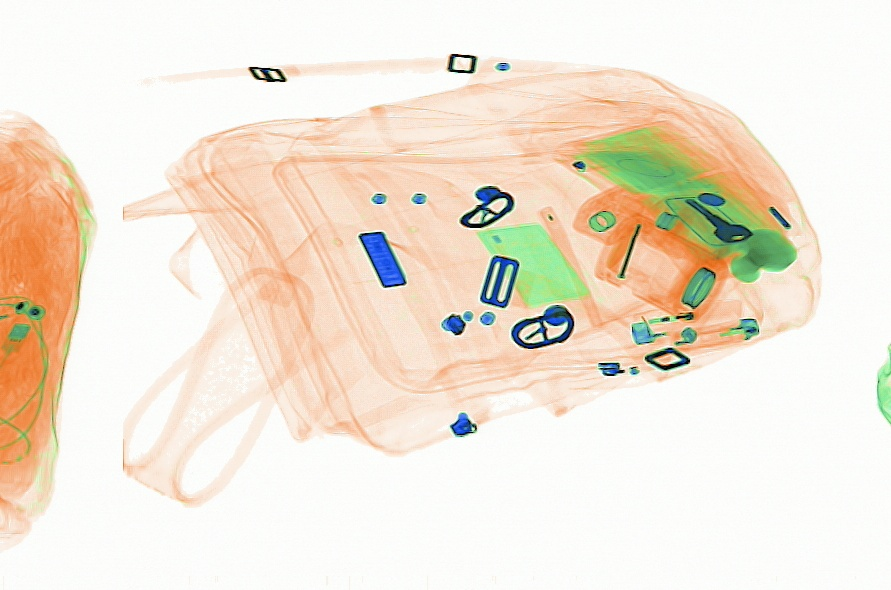lighter: (628, 295, 747, 345), (656, 314, 759, 354)
